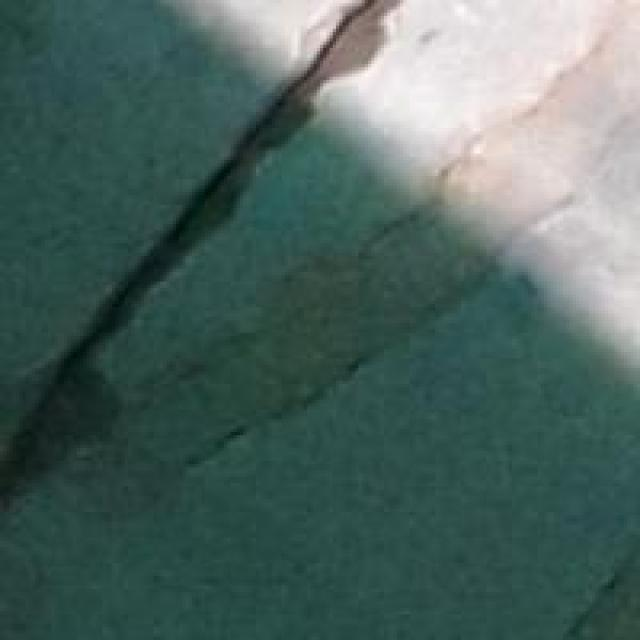Crack: (0, 3, 413, 570)
